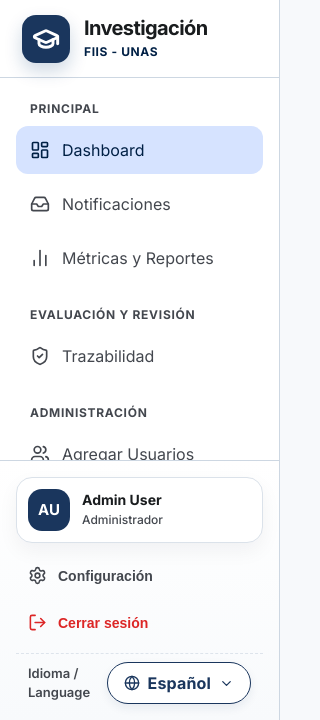
Sidebar › shows settings message when settings button is clicked
Click the button "Configuración" at (140, 576), box [16, 555, 263, 596]
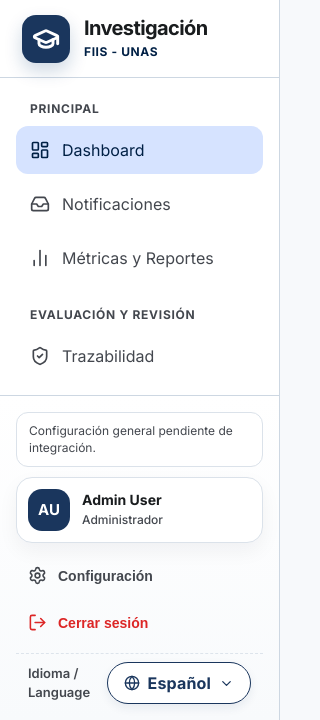
Result: the text "Configuración general pendiente de integración." is shown at [16, 412, 263, 467]
